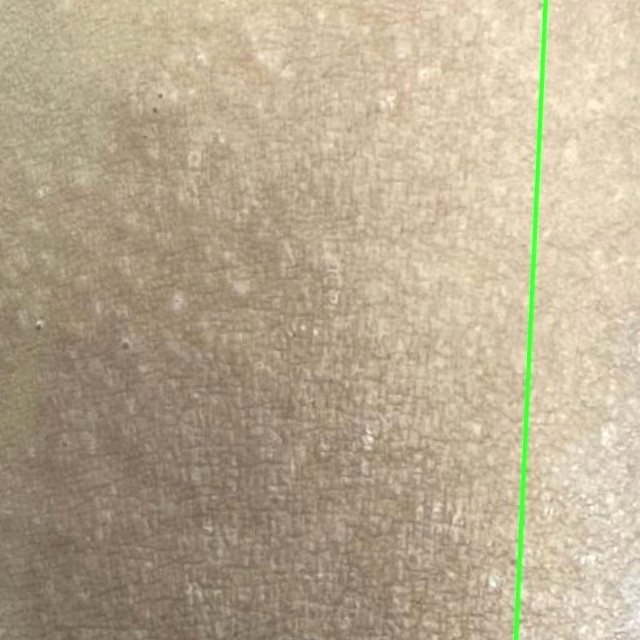Contact Dermatitis: (515, 0, 639, 639)
